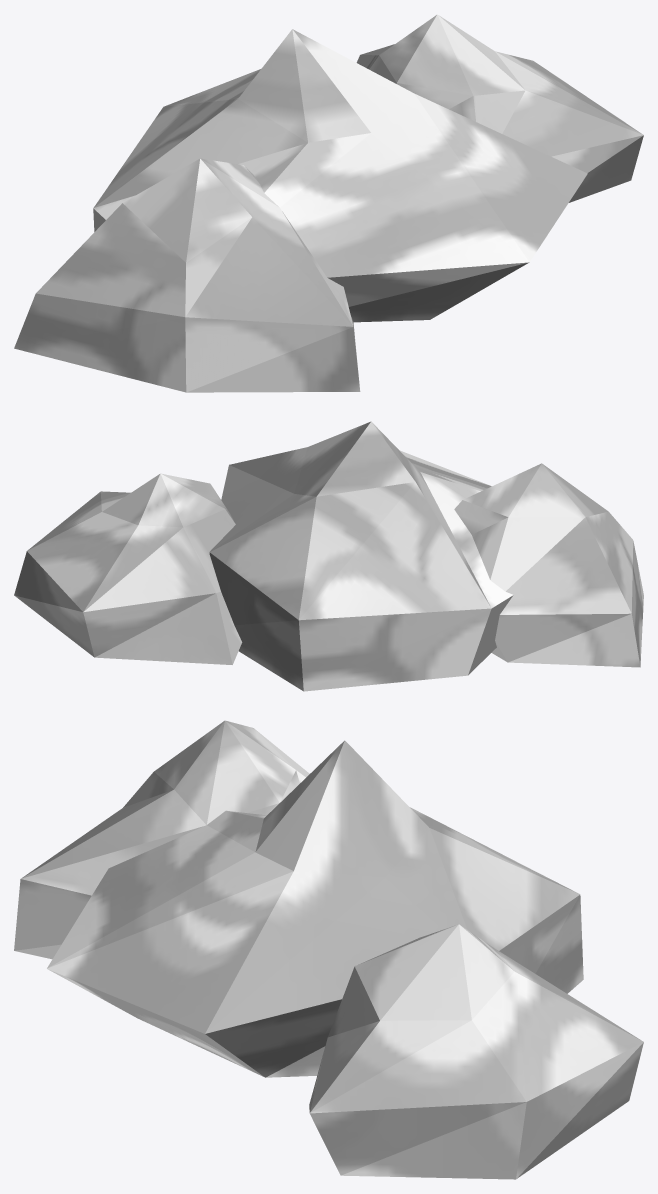
Rendered from bramble_1.obj.
3 views of the same model, one above another, from view 1: azimuth 30°, elevation 25°; view 2: azimuth 150°, elevation 25°; view 3: azimuth 270°, elevation 25° (orthographic). The views are drawn at different scales.
Visible parts, largest first — view 1: bramble_1; view 2: bramble_1; view 3: bramble_1.
Part boxes in pixels (<box>): bramble_1: <box>14,14,643,392</box>; bramble_1: <box>14,421,643,691</box>; bramble_1: <box>14,720,643,1179</box>.
Bounding box in the file's own units: 0.8273 × 0.286 × 0.6403.
